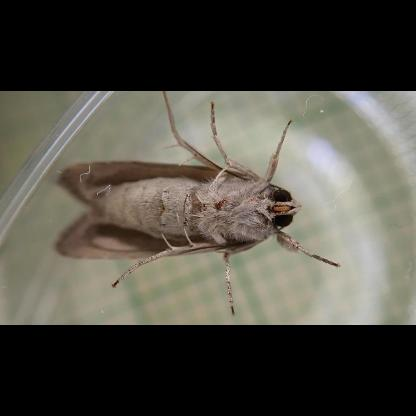Fall Armyworm Moth: (48, 90, 344, 320)
